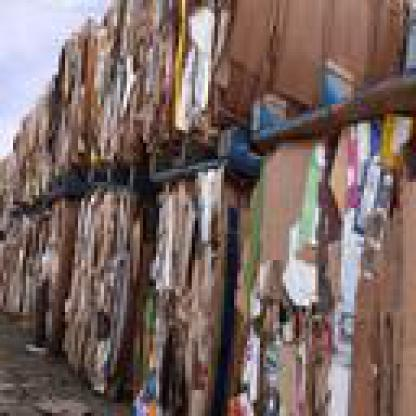CARDBOARD: (234, 150, 413, 413), (211, 0, 413, 127), (127, 176, 234, 413), (58, 182, 140, 396), (134, 0, 214, 146), (71, 0, 143, 156), (19, 195, 65, 348), (39, 26, 81, 176), (10, 100, 46, 188), (0, 221, 23, 319), (0, 156, 13, 214)
